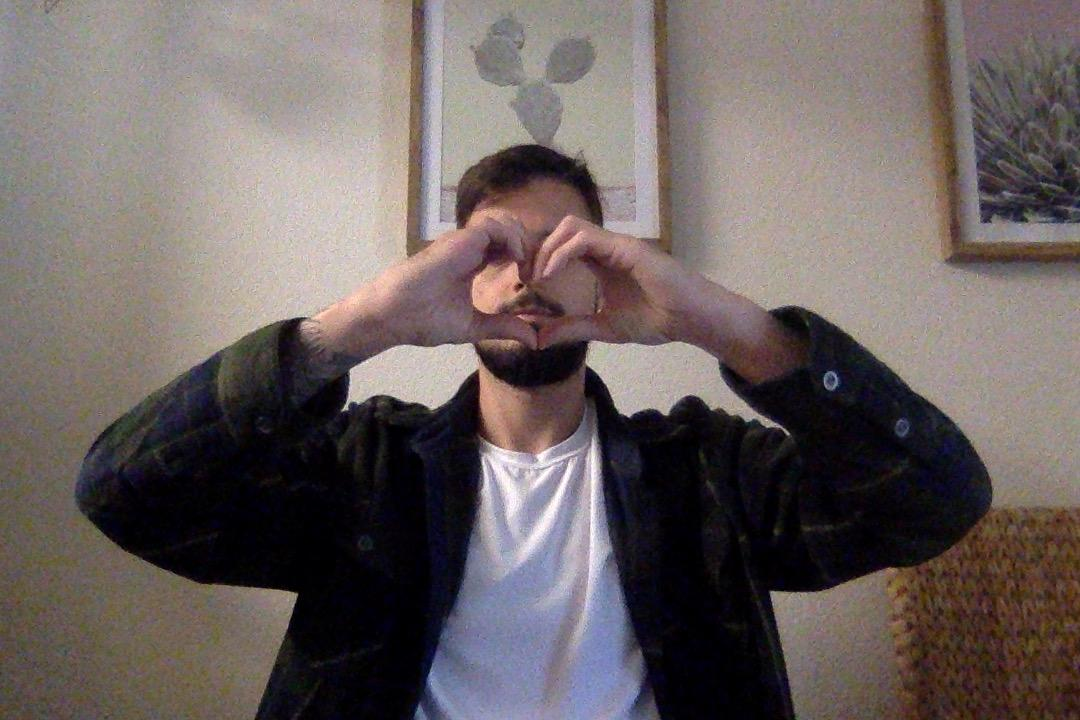Heart: (332, 210, 719, 386)
